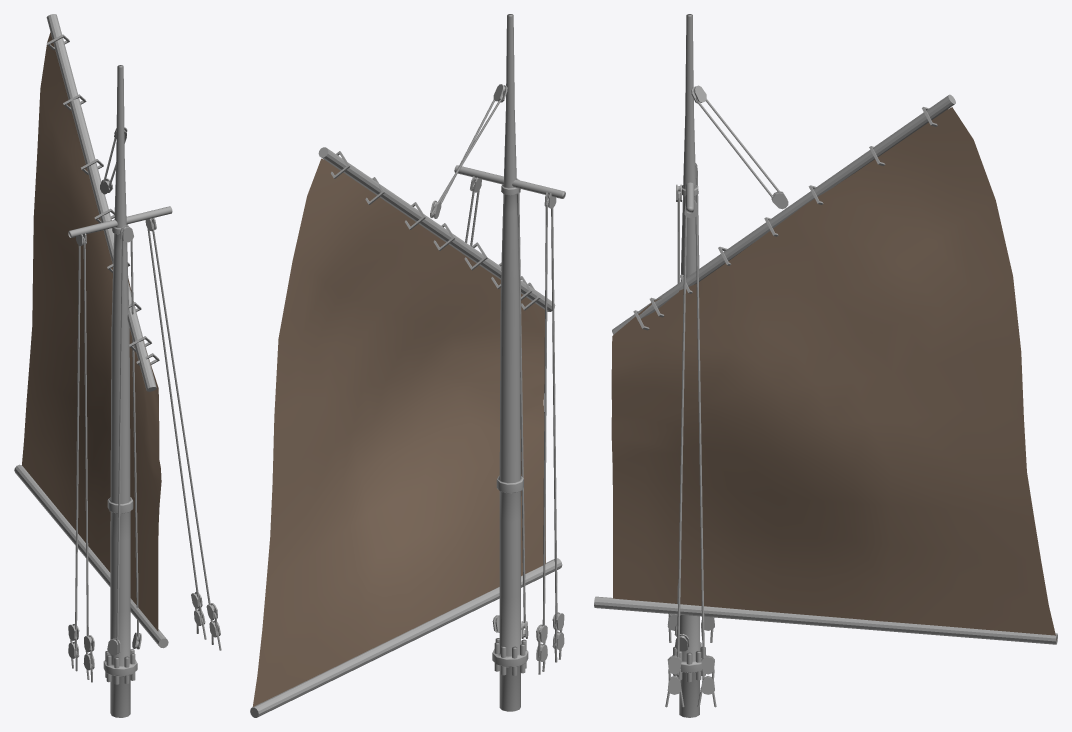
File: sail1.fbx
The picture shows the model from 3 angles, left to right: view 1: azimuth 30°, elevation 25°; view 2: azimuth 150°, elevation 25°; view 3: azimuth 270°, elevation 25°; orthographic projection. The views are drawn at different scales.
Parts seen in each view (by area): view 1: polySurface342, polySurface343; view 2: polySurface342, polySurface343; view 3: polySurface342, polySurface343.
Boxes of the visible parts, bbox=[...] form: polySurface342: bbox=[22, 32, 161, 631]; polySurface343: bbox=[14, 14, 221, 717]; polySurface342: bbox=[252, 158, 545, 711]; polySurface343: bbox=[250, 14, 565, 717]; polySurface342: bbox=[611, 107, 1056, 640]; polySurface343: bbox=[594, 14, 1057, 717].
Size of the model in its own units: 5.23 by 22.94 by 13.82.
